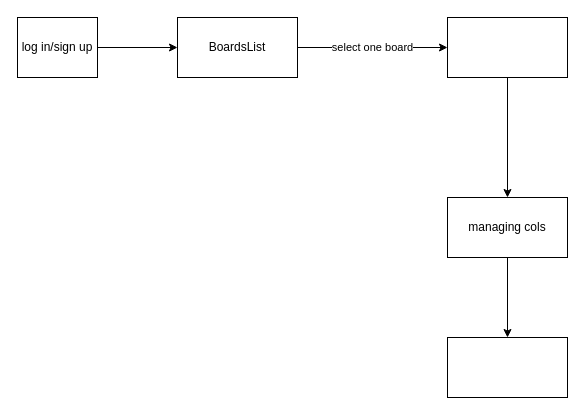
The diagram is 585 pixels wide and 415 high, and some of its shapes have lost their labels. The shapes that lost their labels are listed below. From the top down, each one's centre as x and y in pixels, then its label:
point 507,47: board page
point 507,367: jobs
